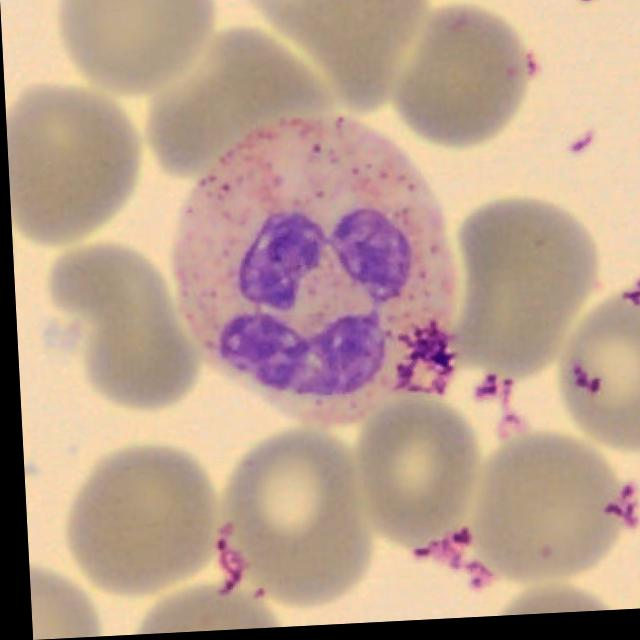Neutrofilo segmentado: (167, 118, 459, 425)
